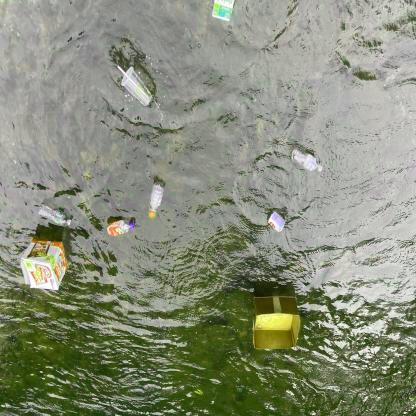Plastic: (112, 54, 158, 110), (31, 198, 76, 230), (141, 176, 170, 225), (290, 143, 326, 177), (102, 212, 140, 244)
